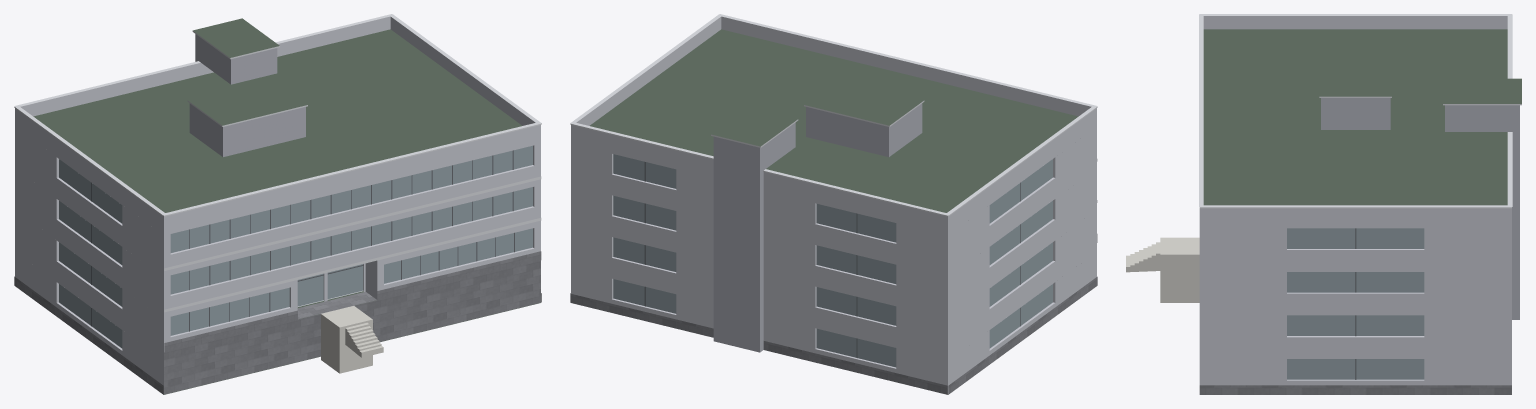
3 renders of one model, left to right at view 1: azimuth 30°, elevation 25°; view 2: azimuth 150°, elevation 25°; view 3: azimuth 270°, elevation 25°, orthographic. The views are drawn at different scales.
Parts seen in each view (by area): view 1: b125_2__roof, b125_2__wall, b125_2__glass, b125_2__base, b125_2__parapet, b125_2__trim, b125_2__wall2, b125_2__entranceStair, b125_2__frame; view 2: b125_2__wall, b125_2__roof, b125_2__glass, b125_2__wall2, b125_2__parapet, b125_2__base, b125_2__trim; view 3: b125_2__roof, b125_2__wall, b125_2__glass, b125_2__parapet, b125_2__wall2, b125_2__trim, b125_2__entranceStair, b125_2__base.
Boxes of the visible parts, x1=… form: b125_2__roof: x1=33, y1=18, x2=539, y2=394; b125_2__wall: x1=15, y1=119, x2=540, y2=394; b125_2__glass: x1=59, y1=145, x2=532, y2=348; b125_2__base: x1=14, y1=251, x2=541, y2=394; b125_2__parapet: x1=15, y1=16, x2=540, y2=227; b125_2__trim: x1=14, y1=14, x2=541, y2=312; b125_2__wall2: x1=189, y1=34, x2=305, y2=156; b125_2__entranceStair: x1=321, y1=306, x2=383, y2=373; b125_2__frame: x1=91, y1=150, x2=514, y2=331; b125_2__wall: x1=571, y1=119, x2=1096, y2=394; b125_2__roof: x1=590, y1=29, x2=1078, y2=212; b125_2__glass: x1=613, y1=154, x2=1052, y2=367; b125_2__wall2: x1=713, y1=103, x2=922, y2=352; b125_2__parapet: x1=571, y1=16, x2=1096, y2=227; b125_2__base: x1=570, y1=234, x2=1097, y2=394; b125_2__trim: x1=570, y1=14, x2=1097, y2=216; b125_2__roof: x1=1203, y1=29, x2=1521, y2=205; b125_2__wall: x1=1199, y1=220, x2=1511, y2=385; b125_2__glass: x1=1287, y1=228, x2=1424, y2=379; b125_2__parapet: x1=1199, y1=16, x2=1511, y2=220; b125_2__wall2: x1=1321, y1=98, x2=1519, y2=319; b125_2__trim: x1=1199, y1=14, x2=1521, y2=208; b125_2__entranceStair: x1=1126, y1=237, x2=1199, y2=302; b125_2__base: x1=1199, y1=385, x2=1511, y2=394.
Bounding box in the file's own units: 34.25 × 18.21 × 29.62.
Materials: 10 (1 with a texture image).
